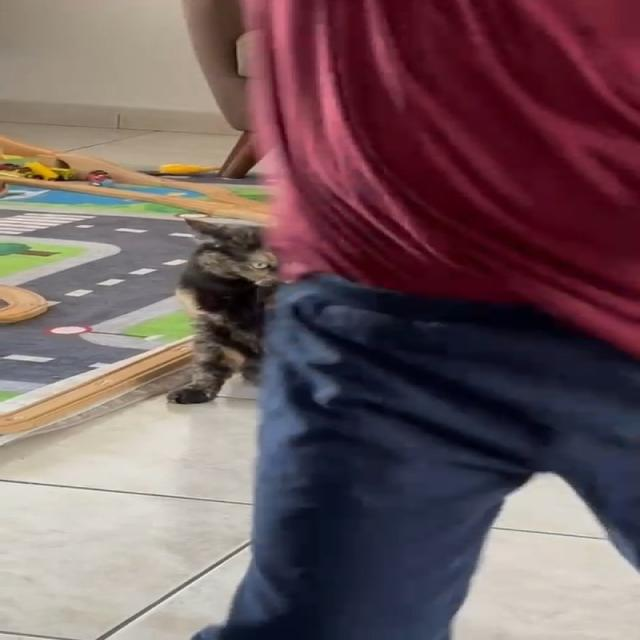authorized: (164, 216, 280, 404)
